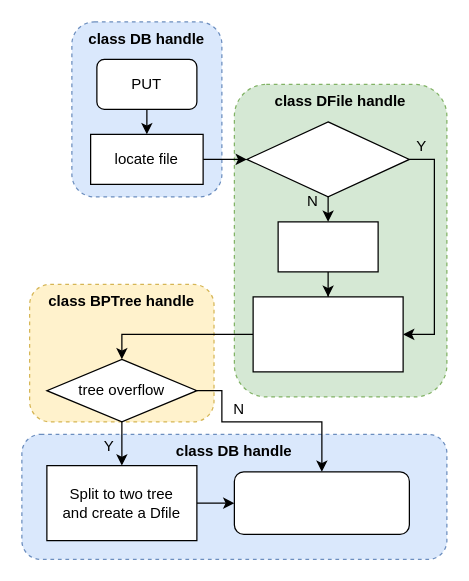
Image size: 469x581. Some labels were removed from this diagram. Here are the shapes that lost their labels. From the top down, the centre of each, then its label:
At (327,159): "File is in memory".
At (327,246): "Bulk load".
At (327,334): "tree.insert() set is_sync to false".
At (321,502): "LRU algorithm Choose LRU to dump".
